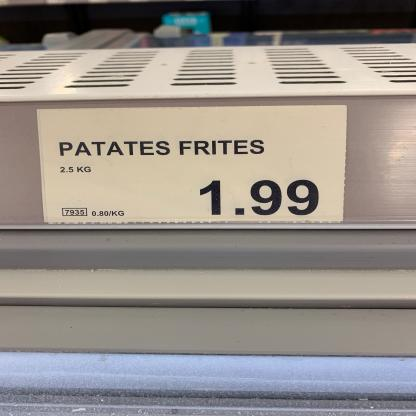prtg: (36, 107, 348, 226)
